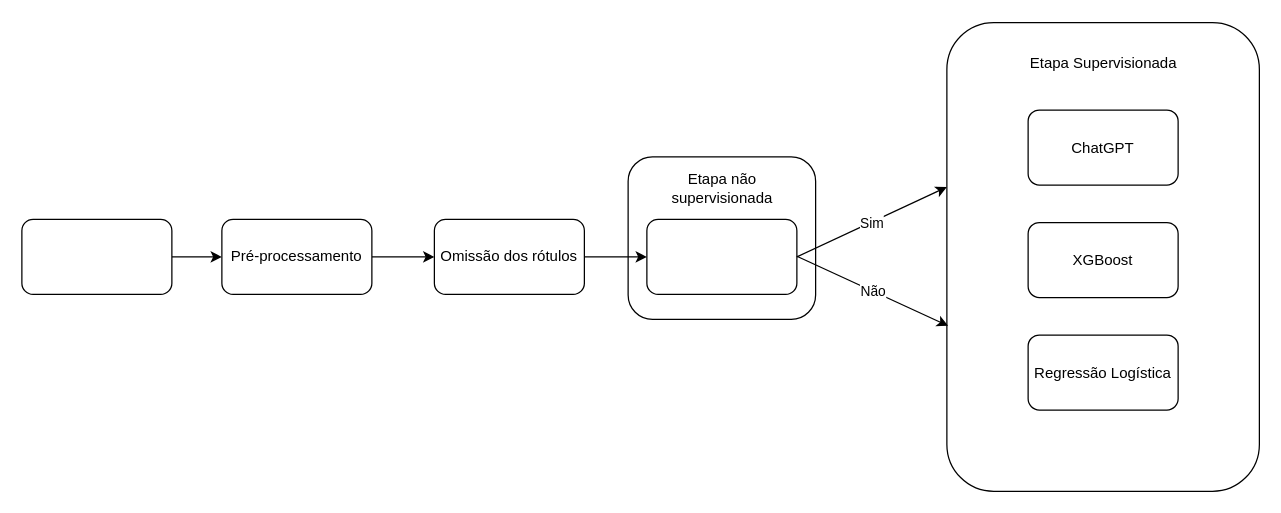
This 1281x513 diagram has some shape labels left out. Each missing label, with the centre of its shape:
"Base de dados (FakeBR)" belongs at [96,256].
"Rotulagem fraca" belongs at [721,256].
